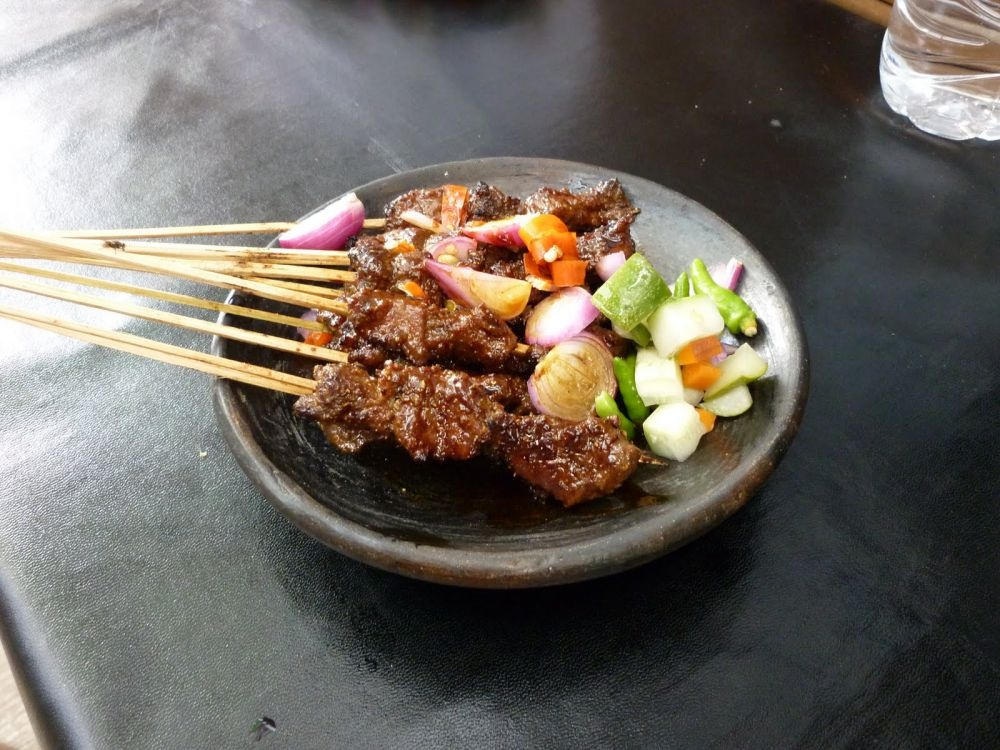sate: (0, 230, 666, 513)
